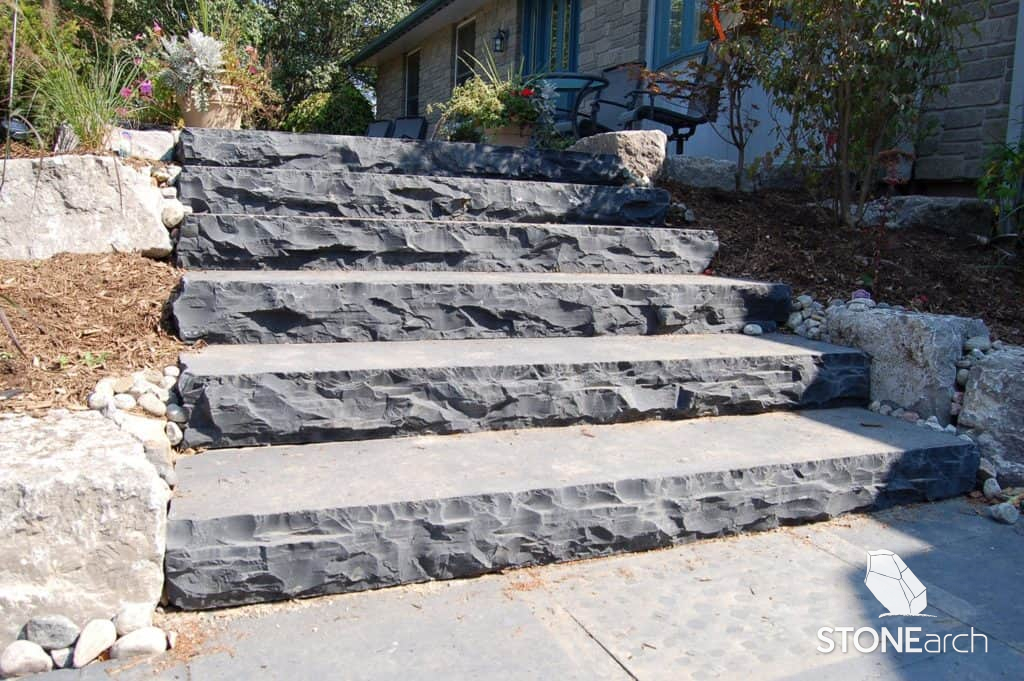upstairs: (186, 186, 691, 634)
